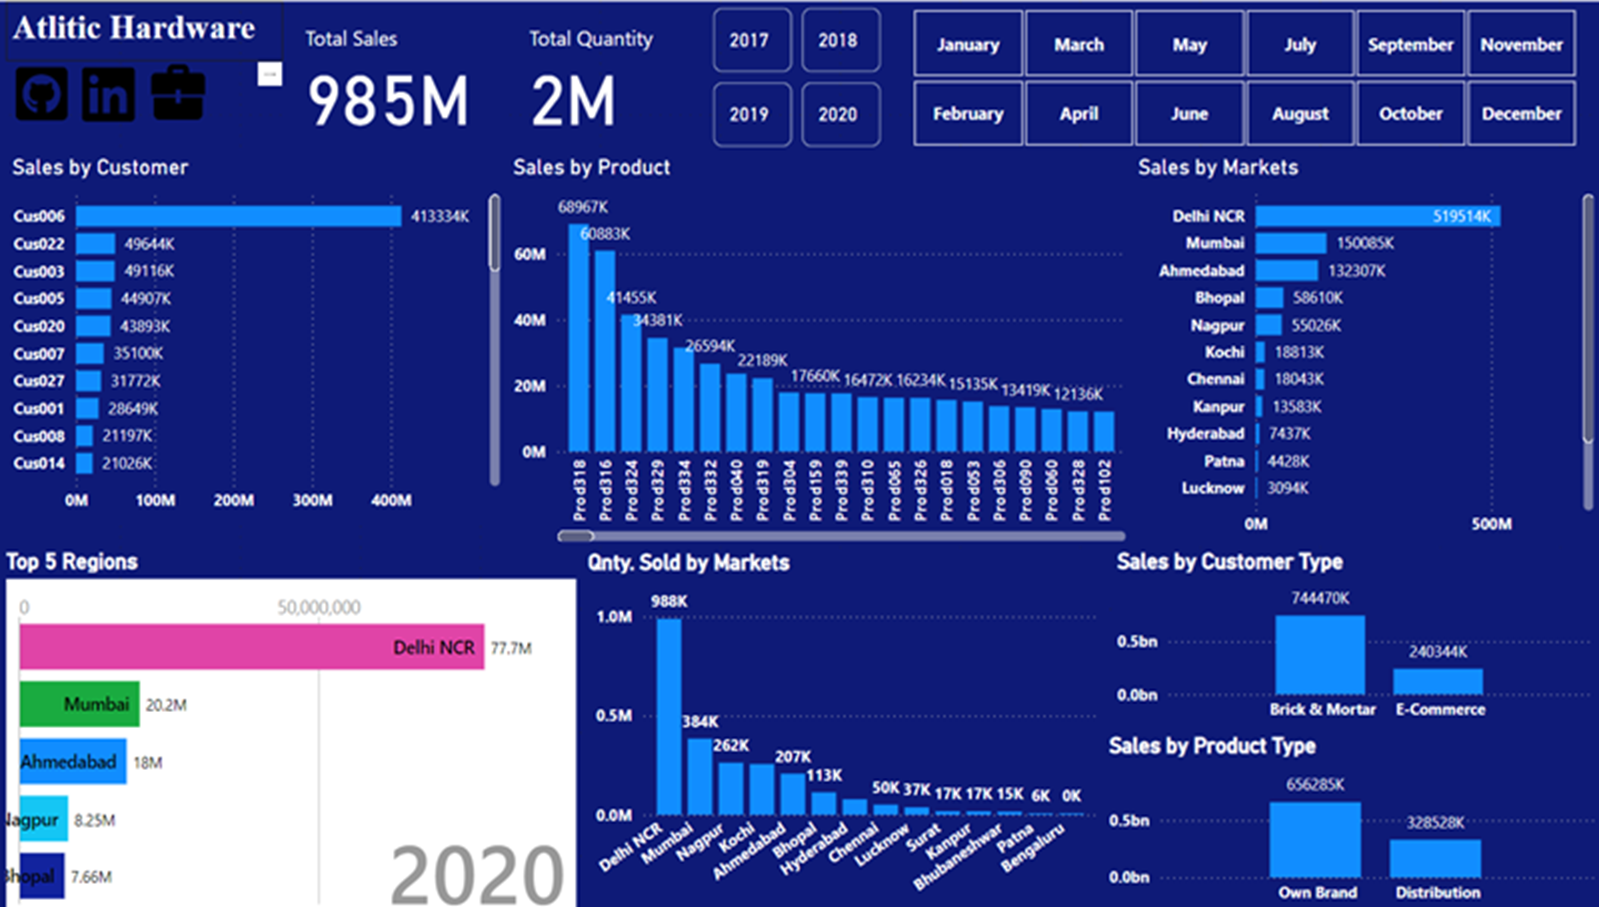

Layout of this report page (visuals, bound fields, positions):
{"tool":"powerbi","page":{"name":"Page 1","canvas":[1280,720],"ordinal":0},"visuals":[{"type":"cardVisual","fields":{"Data":["Sum(Table1.sales_amount)"]},"box":[226.8,7.8,178.5,119],"z":0},{"type":"cardVisual","title":"Total Sales","fields":{"Data":["Sum(Table1.sales_qty)"]},"box":[406.3,7.8,159.6,119],"z":1000},{"type":"advancedSlicerVisual","fields":{"Values":["Table1.order_date.Variation.Date Hierarchy.Year"]},"box":[565.8,7.8,144.9,119],"z":2000},{"type":"barChart","title":"Sales by Customer","fields":{"Category":["Table1.customer_code"],"Y":["Sum(Table1.sales_amount)"]},"box":[5.2,126.8,400.2,287.2],"z":3000},{"type":"barChart","title":"Sales by Markets","fields":{"Category":["Table1.markets_name"],"Y":["Sum(Table1.sales_amount)"]},"box":[905.7,126.8,374.3,306.2],"z":4000},{"type":"columnChart","title":"Qnty. Sold by Markets","fields":{"Y":["Sum(Table1.sales_qty)"],"Category":["Table1.markets_name"]},"box":[465.6,433.5,416.6,286.5],"z":5000},{"type":"slicer","fields":{"Values":["Table1.order_date.Variation.Date Hierarchy.Month"]},"box":[710.7,7.8,569.3,119],"z":6000},{"type":"columnChart","title":"Sales by Product","fields":{"Category":["Table1.product_code"],"Y":["Sum(Table1.sales_amount)"]},"box":[405.6,126.4,499.9,306.4],"z":7000},{"type":"columnChart","title":"Sales by Product Type","fields":{"Category":["Table1.product_type"],"Y":["Sum(Table1.sales_amount)"]},"box":[882.3,576.3,398,142.8],"z":8000},{"type":"columnChart","title":"Sales by Customer Type","fields":{"Category":["Table1.customer_type"],"Y":["Sum(Table1.sales_amount)"]},"box":[889,432.7,391.3,143.7],"z":9000},{"type":"textbox","box":[4.8,8,221.6,46.4],"z":10000},{"type":"wishyoulizationbarchartrace","title":"Top 5 Regions","fields":{"name":["Table1.markets_name"],"value":["Sum(Table1.sales_amount)"],"year":["Table1.order_date.Variation.Date Hierarchy.Year"]},"box":[0,432.7,465.6,286.5],"z":11000},{"type":"image","box":[5.1,51.5,56.6,56.6],"z":12000},{"type":"image","box":[56.6,54.1,59.2,52.4],"z":13000},{"type":"image","box":[115.8,52.4,53.2,53.2],"z":14000}]}

Visuals, with their boxes in screenshot pixels (x1, y1, x2, y2), scaled from the page's 1280x720 canvas onto the 1599x907 screenshot:
cardVisual - Sum(Table1.sales_amount): rect(283, 10, 506, 160)
"Total Sales" cardVisual: rect(508, 10, 707, 160)
advancedSlicerVisual - Table1.order_date.Variation.Date Hierarchy.Year: rect(707, 10, 888, 160)
"Sales by Customer" barChart: rect(6, 160, 506, 522)
"Sales by Markets" barChart: rect(1131, 160, 1598, 545)
"Qnty. Sold by Markets" columnChart: rect(582, 546, 1102, 906)
slicer - Table1.order_date.Variation.Date Hierarchy.Month: rect(888, 10, 1598, 160)
"Sales by Product" columnChart: rect(507, 159, 1131, 545)
"Sales by Product Type" columnChart: rect(1102, 726, 1598, 906)
"Sales by Customer Type" columnChart: rect(1111, 545, 1598, 726)
textbox: rect(6, 10, 283, 69)
"Top 5 Regions" wishyoulizationbarchartrace: rect(0, 545, 582, 906)
image: rect(6, 65, 77, 136)
image: rect(71, 68, 145, 134)
image: rect(145, 66, 211, 133)
